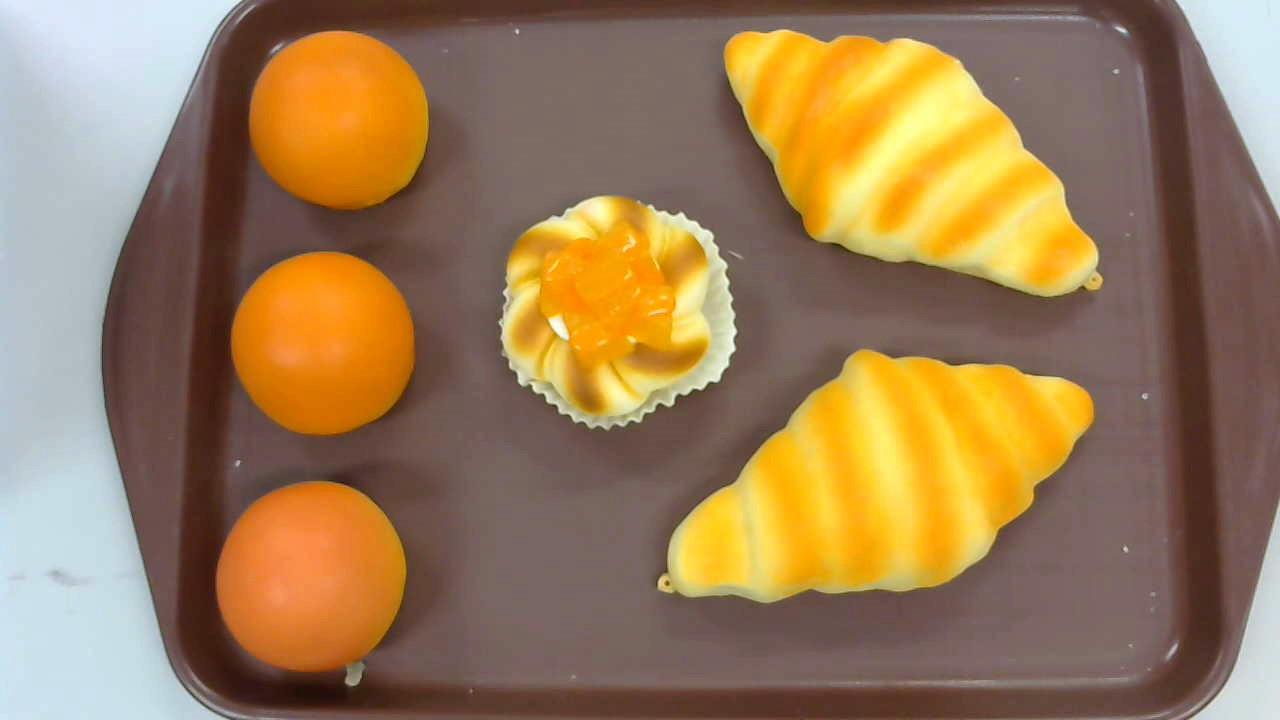bun: (214, 481, 407, 672), (230, 251, 415, 437), (248, 31, 429, 210)
croissant: (657, 349, 1094, 604), (723, 28, 1103, 297)
mango tart: (497, 194, 741, 432)
